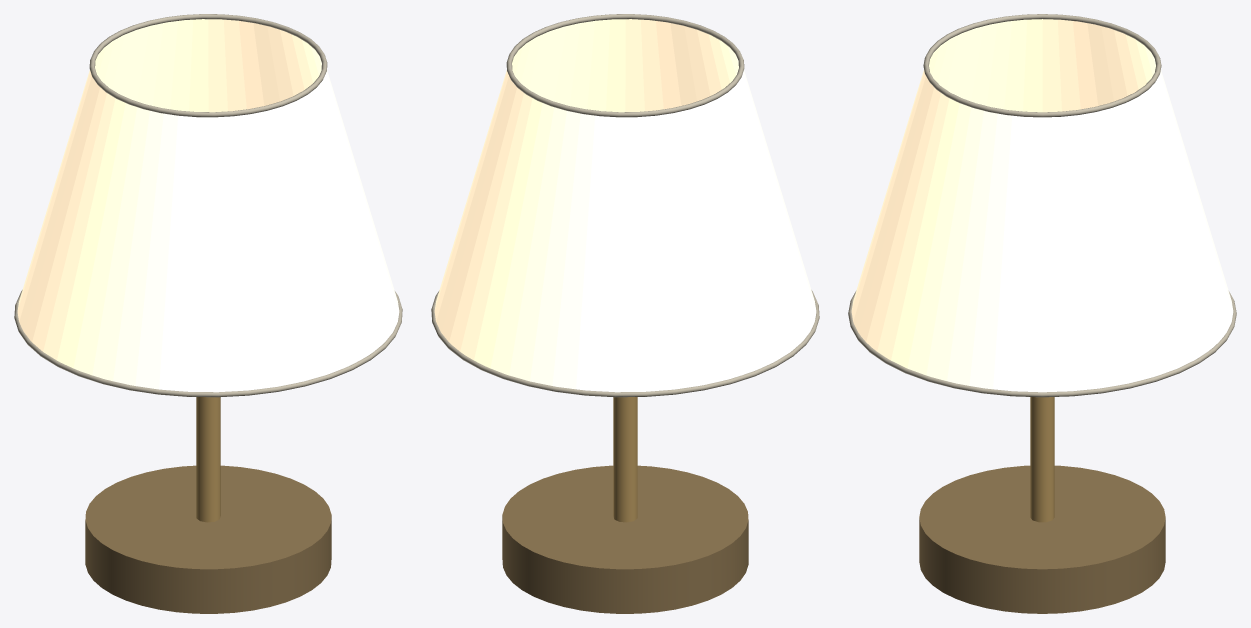
File: nesting-linen-lamp.glb
The picture shows the model from 3 angles, left to right: view 1: azimuth 30°, elevation 25°; view 2: azimuth 150°, elevation 25°; view 3: azimuth 270°, elevation 25°; orthographic projection.
Visible parts, largest first — view 1: part::nesting-linen-lamp/open-woven-shade-001, part::nesting-linen-lamp/weighted-bronze-lamp-base-001, part::nesting-linen-lamp/rolled-shade-edge-002, part::nesting-linen-lamp/lamp-stem-001, part::nesting-linen-lamp/rolled-shade-edge-001; view 2: part::nesting-linen-lamp/open-woven-shade-001, part::nesting-linen-lamp/weighted-bronze-lamp-base-001, part::nesting-linen-lamp/rolled-shade-edge-002, part::nesting-linen-lamp/lamp-stem-001, part::nesting-linen-lamp/rolled-shade-edge-001; view 3: part::nesting-linen-lamp/open-woven-shade-001, part::nesting-linen-lamp/weighted-bronze-lamp-base-001, part::nesting-linen-lamp/rolled-shade-edge-002, part::nesting-linen-lamp/lamp-stem-001, part::nesting-linen-lamp/rolled-shade-edge-001.
Part boxes in pixels (bbox=[...]): part::nesting-linen-lamp/open-woven-shade-001: bbox=[17, 19, 399, 392]; part::nesting-linen-lamp/weighted-bronze-lamp-base-001: bbox=[85, 465, 331, 613]; part::nesting-linen-lamp/rolled-shade-edge-002: bbox=[89, 14, 327, 117]; part::nesting-linen-lamp/lamp-stem-001: bbox=[196, 397, 220, 522]; part::nesting-linen-lamp/rolled-shade-edge-001: bbox=[14, 290, 402, 397]; part::nesting-linen-lamp/open-woven-shade-001: bbox=[434, 19, 816, 392]; part::nesting-linen-lamp/weighted-bronze-lamp-base-001: bbox=[502, 465, 748, 613]; part::nesting-linen-lamp/rolled-shade-edge-002: bbox=[506, 14, 744, 117]; part::nesting-linen-lamp/lamp-stem-001: bbox=[613, 397, 637, 522]; part::nesting-linen-lamp/rolled-shade-edge-001: bbox=[431, 290, 819, 397]; part::nesting-linen-lamp/open-woven-shade-001: bbox=[851, 19, 1233, 392]; part::nesting-linen-lamp/weighted-bronze-lamp-base-001: bbox=[919, 465, 1165, 613]; part::nesting-linen-lamp/rolled-shade-edge-002: bbox=[923, 14, 1161, 117]; part::nesting-linen-lamp/lamp-stem-001: bbox=[1030, 397, 1054, 522]; part::nesting-linen-lamp/rolled-shade-edge-001: bbox=[848, 291, 1236, 397].
Size of the model in its own units: 0.284 by 0.402 by 0.284.
